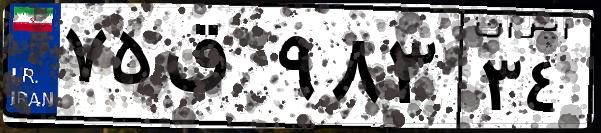3: (385, 28, 445, 110), (475, 38, 525, 113)
4: (525, 38, 570, 115)
5: (110, 28, 158, 98)
7: (57, 26, 110, 100)
8: (330, 28, 385, 110)
9: (270, 28, 330, 110)
ق: (158, 20, 270, 120)
